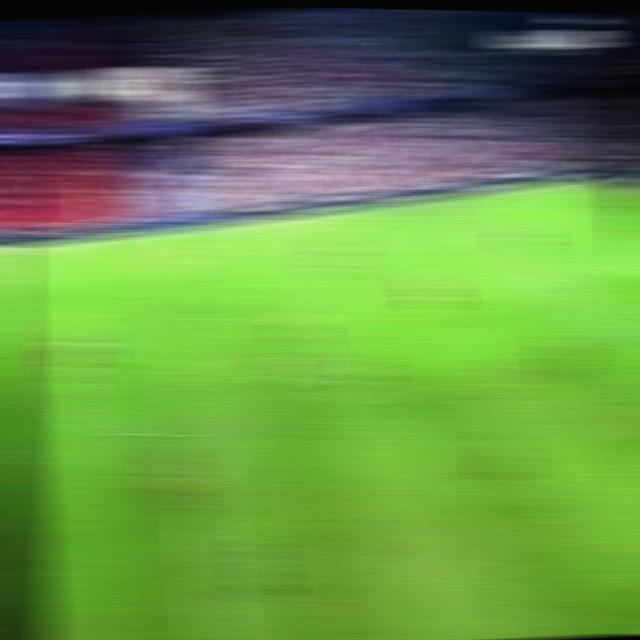bigarea_top_inner: (486, 222, 523, 239)
corner: (561, 175, 608, 189)
halfcircle_bottom: (169, 413, 216, 442)
halfcircle_top: (158, 307, 204, 332)
midline_top_intersection: (150, 228, 190, 245)
top_arc_area_intersection: (544, 265, 583, 281)
